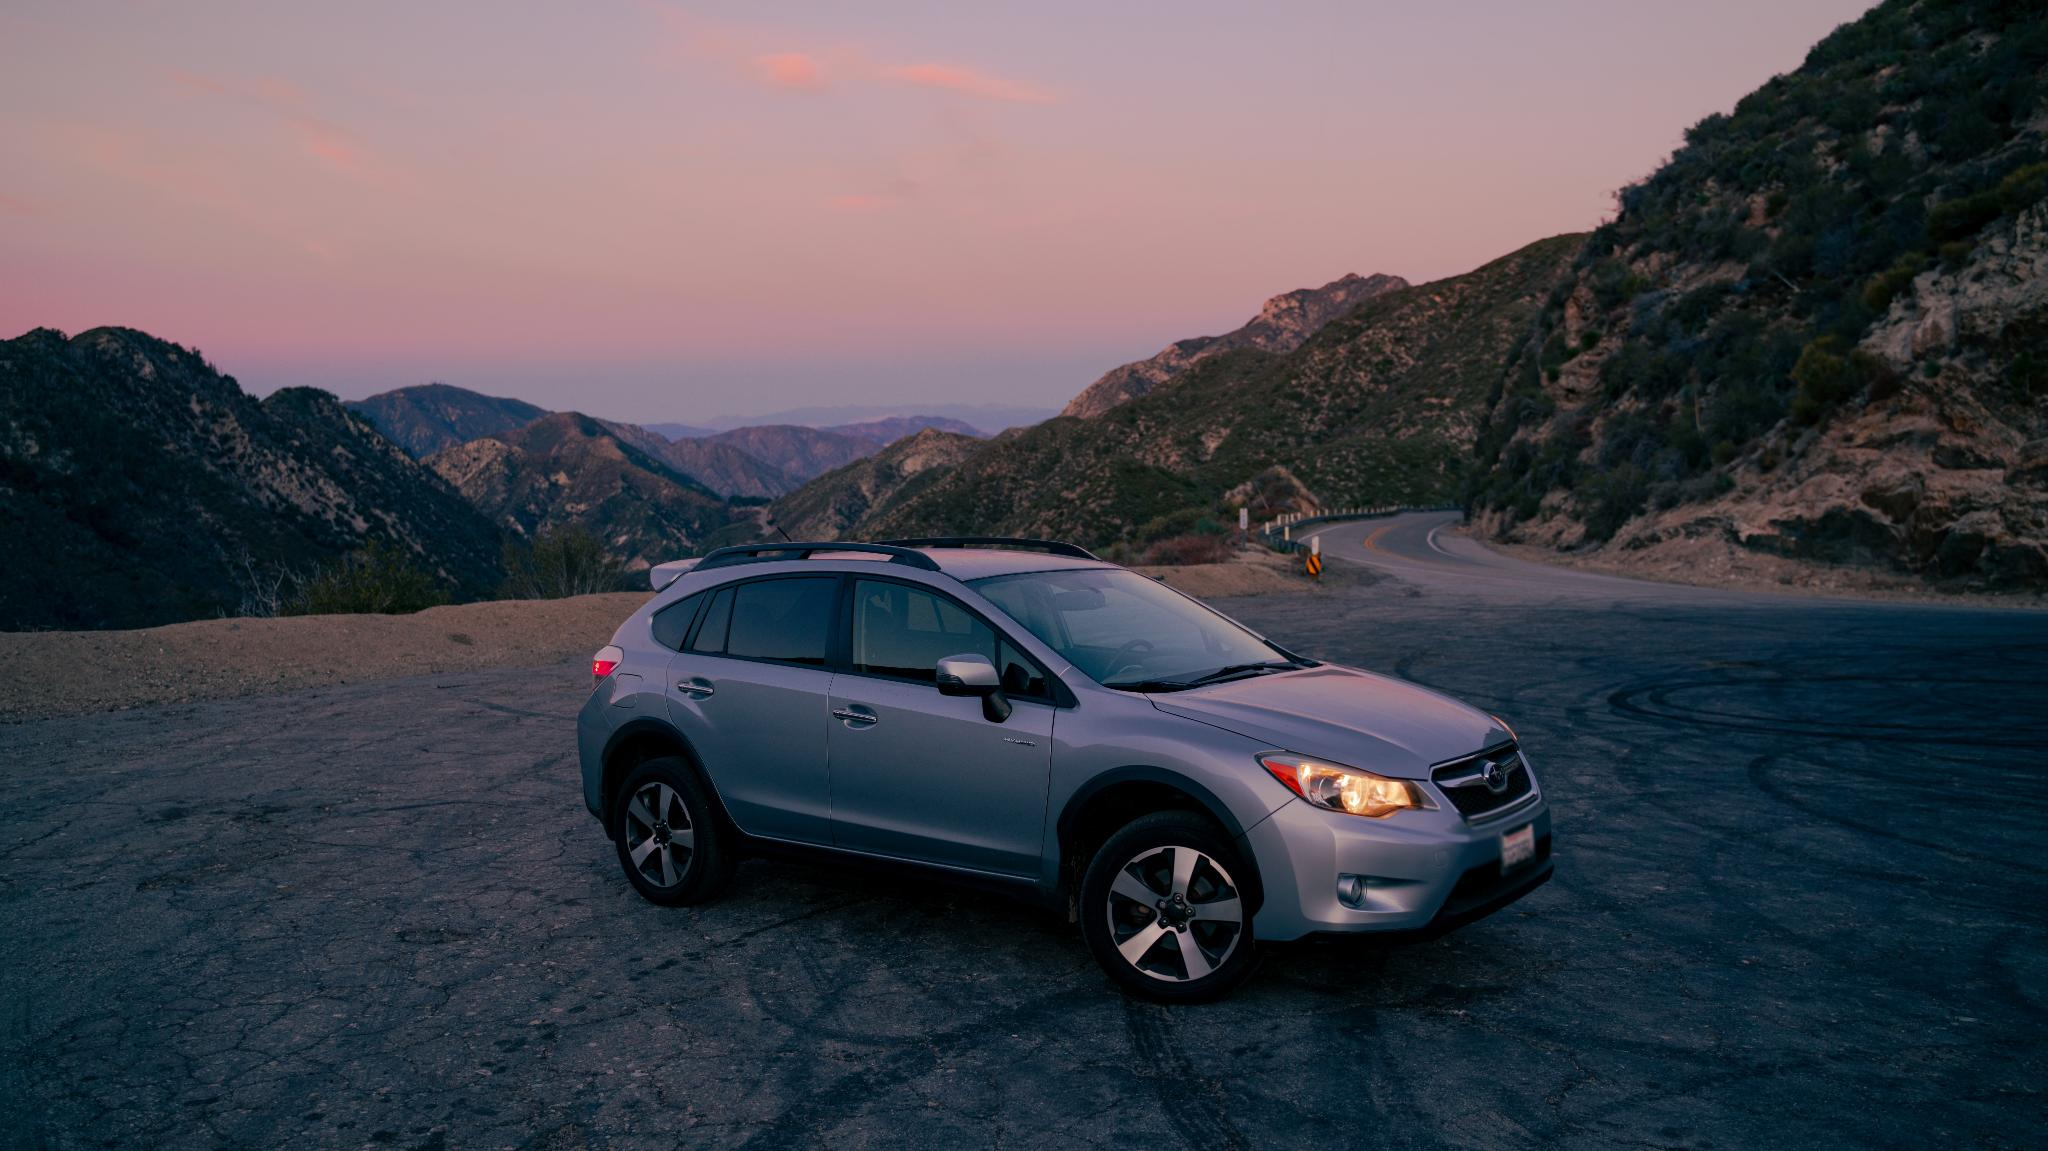subaru: (1467, 754, 1519, 795)
